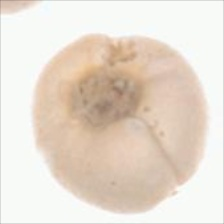L4: (33, 34, 208, 214)
